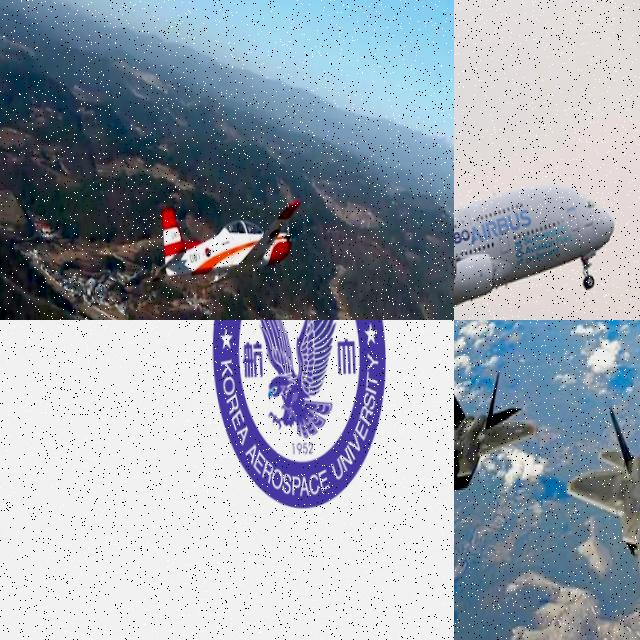A380: (454, 157, 620, 320)
F22: (558, 404, 640, 602), (454, 365, 536, 526)
KAU_Marker: (207, 320, 394, 506)
KT-1: (156, 190, 306, 300)
